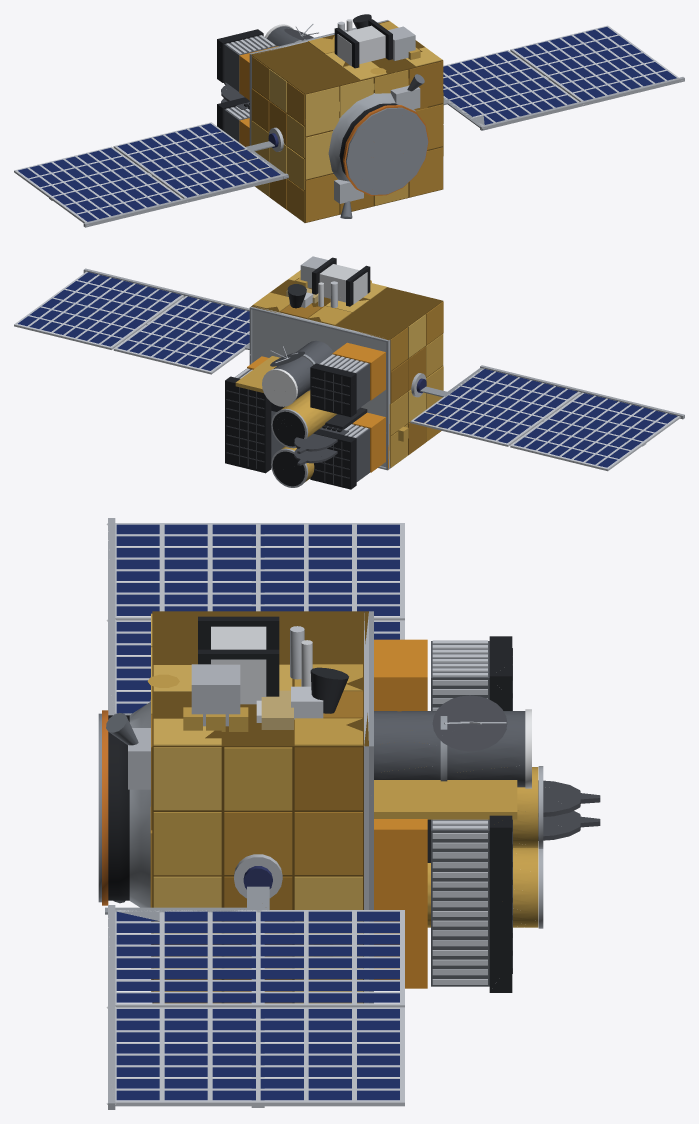
The model's file is astrosat.glb.
The picture shows the model from 3 angles, top to bottom: view 1: azimuth 30°, elevation 25°; view 2: azimuth 150°, elevation 25°; view 3: azimuth 270°, elevation 25°; orthographic projection. The views are drawn at different scales.
Parts seen in each view (by area): view 1: body, solar-panel, foil; view 2: body, solar-panel, foil; view 3: body, solar-panel, foil.
Part boxes in pixels (box(x1,y1,x2,y2)): body: box(14, 14, 684, 227); solar-panel: box(18, 27, 676, 221); foil: box(251, 21, 443, 222); body: box(14, 256, 684, 489); solar-panel: box(18, 272, 677, 467); foil: box(235, 270, 443, 481); body: box(98, 518, 600, 1109); solar-panel: box(116, 524, 399, 1100); foil: box(147, 611, 538, 1003).
Bounding box in the file's own units: 8.5 × 2.14 × 3.08.
